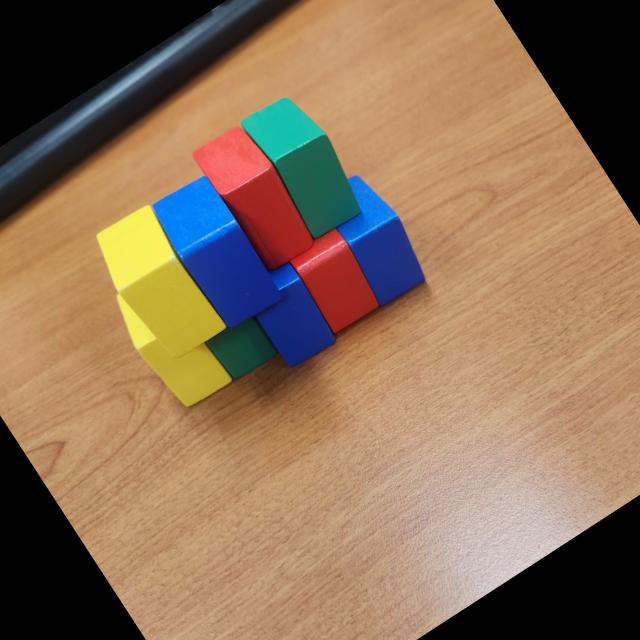blue: (146, 169, 287, 334), (311, 164, 438, 310), (237, 257, 342, 373)
green: (237, 83, 374, 242), (203, 309, 281, 385)
red: (190, 116, 322, 274), (284, 224, 386, 335)
yellow: (84, 199, 228, 366), (105, 266, 236, 418)
